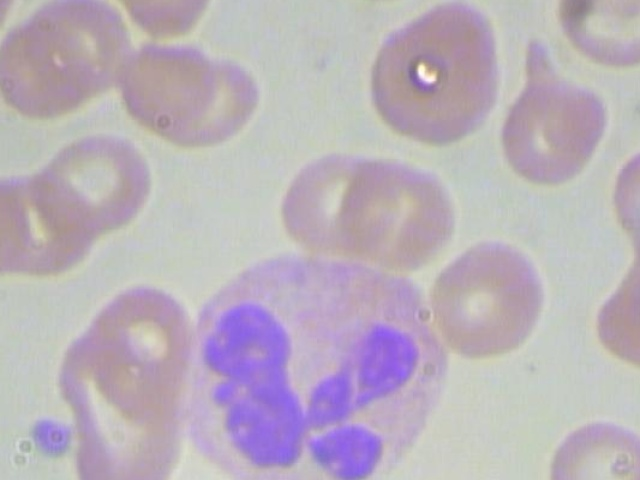Platelets: (17, 410, 79, 465)
RBC: (359, 0, 513, 154), (418, 240, 568, 364), (492, 35, 613, 187), (26, 126, 167, 245), (264, 150, 393, 263), (18, 0, 142, 108), (553, 0, 640, 70), (547, 416, 640, 480), (120, 0, 229, 41), (306, 0, 462, 2)
WBC: (163, 240, 466, 480)
